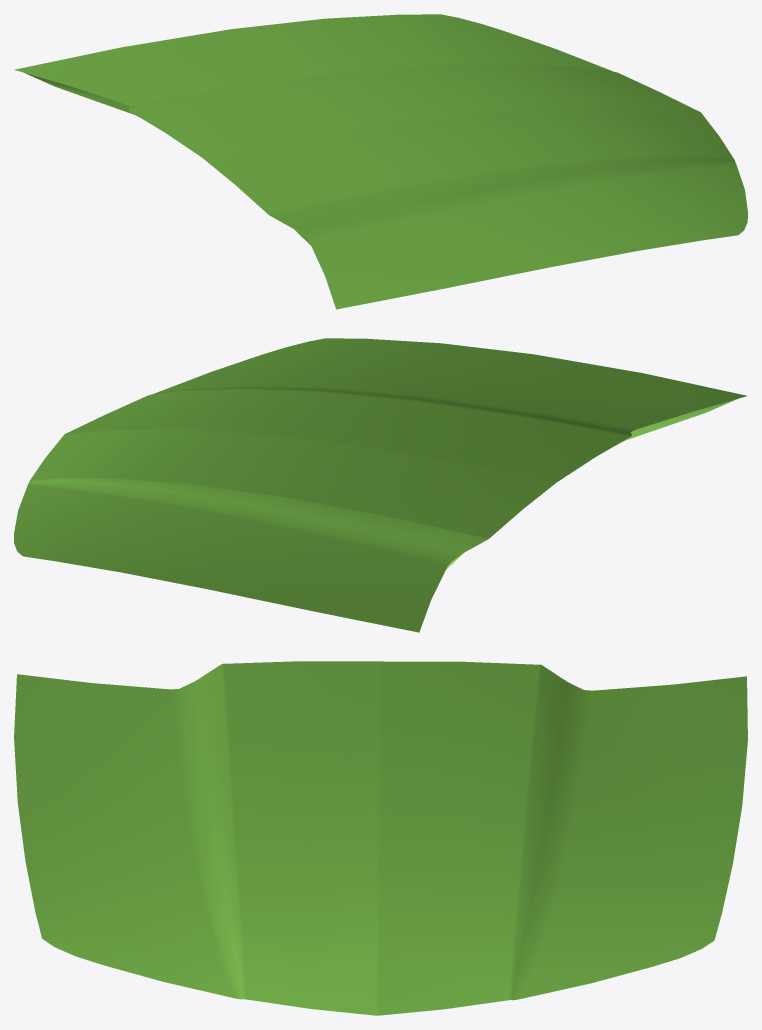
The model's file is cofre.obj.
3 views of the same model, one above another, from view 1: azimuth 30°, elevation 25°; view 2: azimuth 150°, elevation 25°; view 3: azimuth 270°, elevation 25° (orthographic). The views are drawn at different scales.
Parts seen in each view (by area): view 1: Hood_Carbon; view 2: Hood_Carbon; view 3: Hood_Carbon.
Part boxes in pixels (x1,y1,x2,y2): Hood_Carbon: (14,14,747,309); Hood_Carbon: (14,338,746,632); Hood_Carbon: (14,661,747,1015).
Bounding box in the file's own units: 1.39 × 0.1883 × 1.51.
